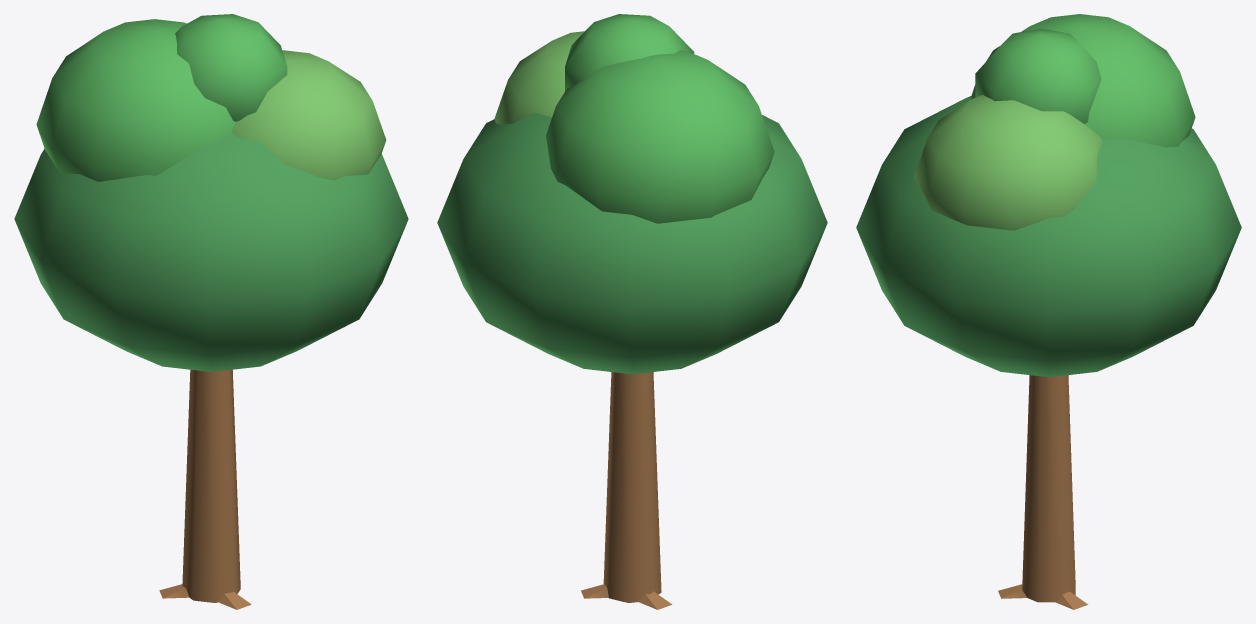
File: CM_Prop_Tree_Round.fbx
The picture shows the model from 3 angles, left to right: view 1: azimuth 30°, elevation 25°; view 2: azimuth 150°, elevation 25°; view 3: azimuth 270°, elevation 25°; orthographic projection. The views are drawn at different scales.
Parts seen in each view (by area): view 1: Canopy, Trunk; view 2: Canopy, Trunk; view 3: Canopy, Trunk.
Boxes of the visible parts, <box> form: Canopy: <box>14,14,408,371</box>; Trunk: <box>159,369,251,609</box>; Canopy: <box>437,14,827,374</box>; Trunk: <box>581,372,672,609</box>; Canopy: <box>856,14,1241,377</box>; Trunk: <box>998,375,1088,609</box>.
Size of the model in its own units: 10 by 10 by 16.
1 material, 1 textured.
